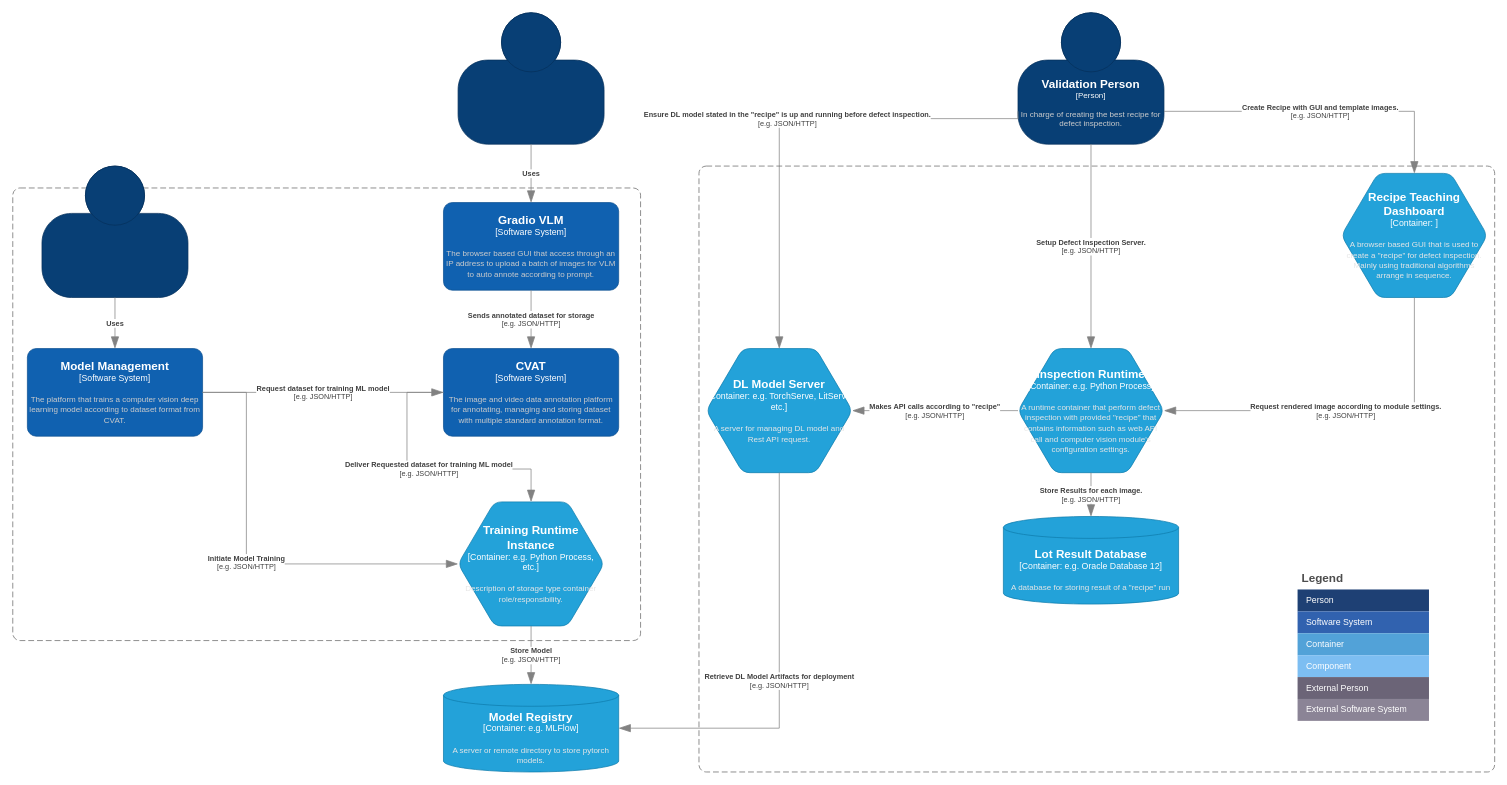
Some shapes in this 1507 by 785 pixel diagram are drawn without their labels. The shapes that lost their labels are listed below. From the top down, each one's box as (x1, y1, x2, y2) in pixels, then its label:
(457, 12, 604, 144): Dataset Collector [Person] Image Sample Collector that collect defect samples.
(41, 165, 188, 297): ML Engineer [Person] Person in charge of training and selecting suitable model.
(12, 187, 641, 641): Phase 1 [Auto Annotate and Train]
(698, 165, 1495, 772): Phase 2 [Recipe Configuration]
